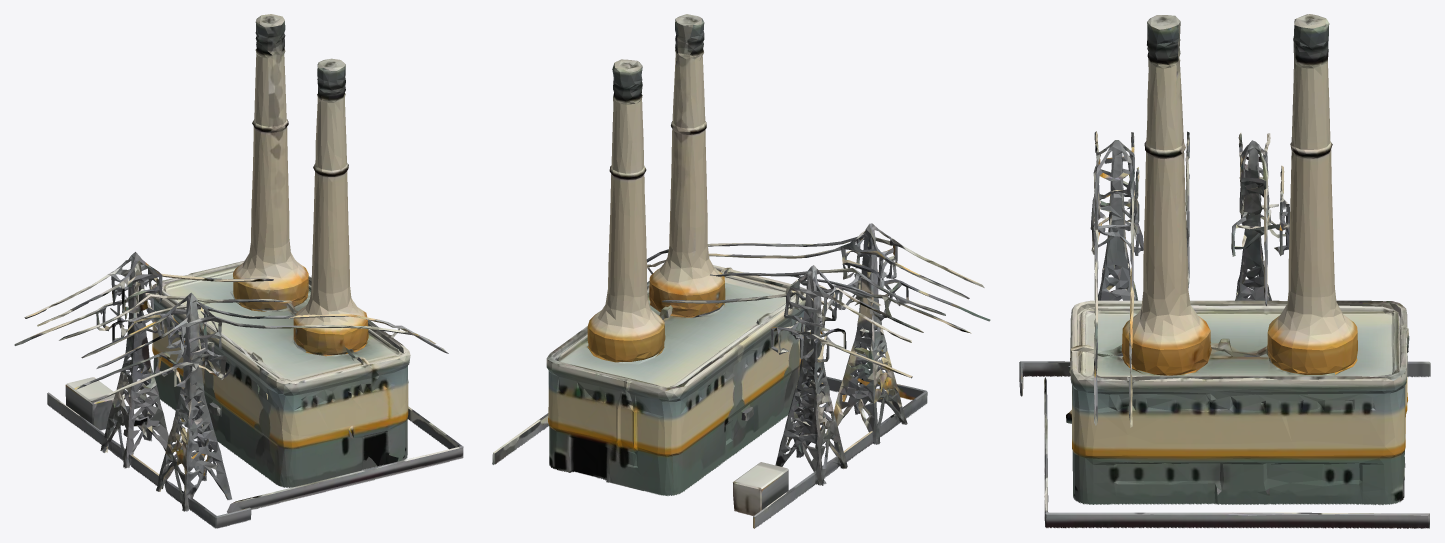
Rendered from power.glb.
3 renders of one model, left to right at view 1: azimuth 30°, elevation 25°; view 2: azimuth 150°, elevation 25°; view 3: azimuth 270°, elevation 25°, orthographic. The views are drawn at different scales.
Parts seen in each view (by area): view 1: figure; view 2: figure; view 3: figure.
Part boxes in pixels (box(x1,y1,x2,y2)): figure: box(14, 14, 463, 528); figure: box(492, 14, 990, 528); figure: box(1019, 14, 1430, 528).
Bounding box in the file's own units: 0.99 × 1 × 0.8112.
1 material, 1 textured.
